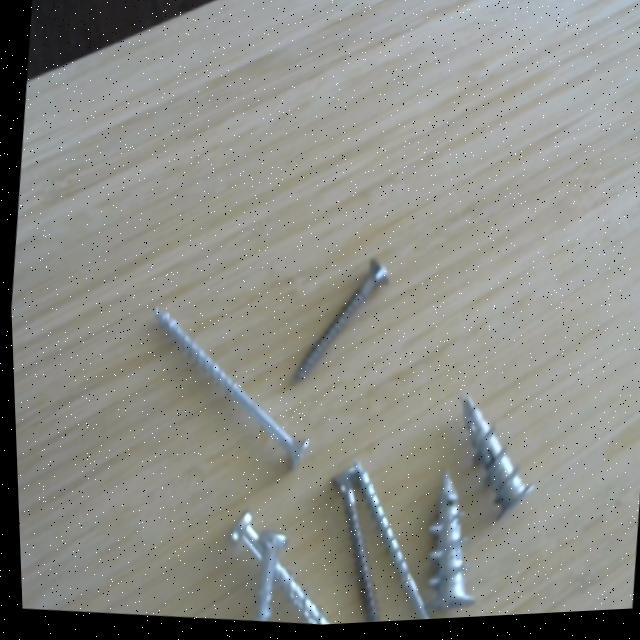Black screw: (282, 254, 393, 397), (321, 465, 377, 626)
Long screw: (142, 296, 314, 489), (346, 462, 433, 624)
Medium screw: (217, 507, 333, 627), (245, 530, 289, 623)
Short screw: (451, 388, 537, 534), (420, 466, 476, 616)
